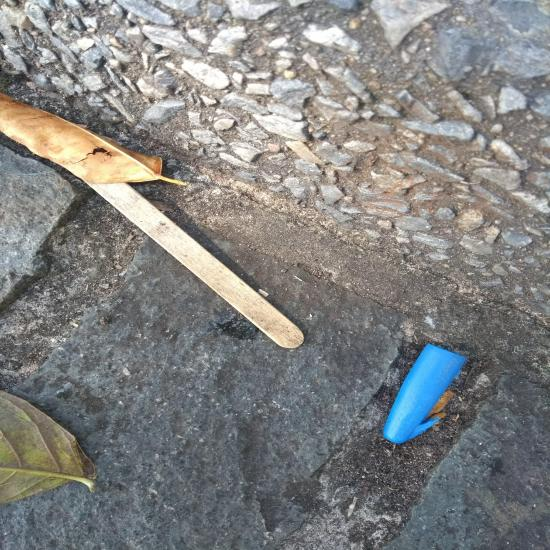Other carton: (195, 307, 254, 359)
Other plastic bottle: (60, 258, 69, 262)
Unlabeled litter: (317, 279, 332, 290), (420, 262, 429, 276), (311, 273, 317, 281), (258, 249, 261, 255)
